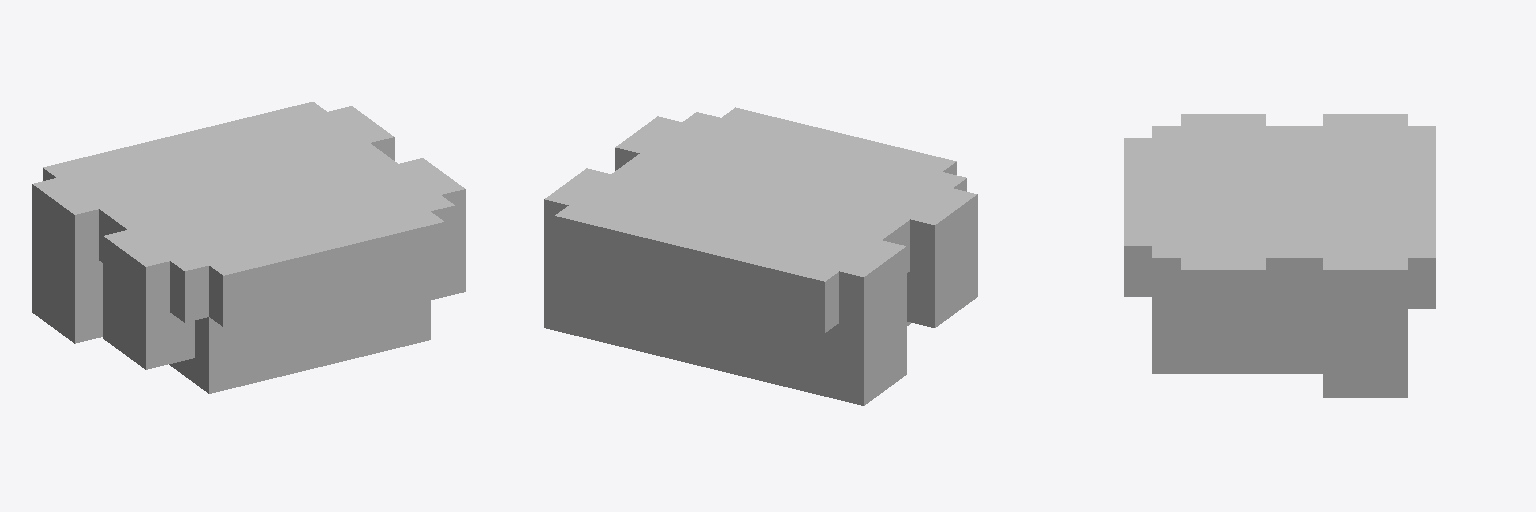
File: torso.obj
3 views of the same model, side by side, from view 1: azimuth 30°, elevation 25°; view 2: azimuth 150°, elevation 25°; view 3: azimuth 270°, elevation 25° (orthographic).
Visible parts, largest first — view 1: object 1; view 2: object 1; view 3: object 1.
Part boxes in pixels (x1,y1,x2,y2): object 1: (32, 102, 465, 393); object 1: (544, 107, 977, 405); object 1: (1124, 114, 1435, 397).
Bounding box in the file's own units: 1.3 × 0.5 × 1.1.